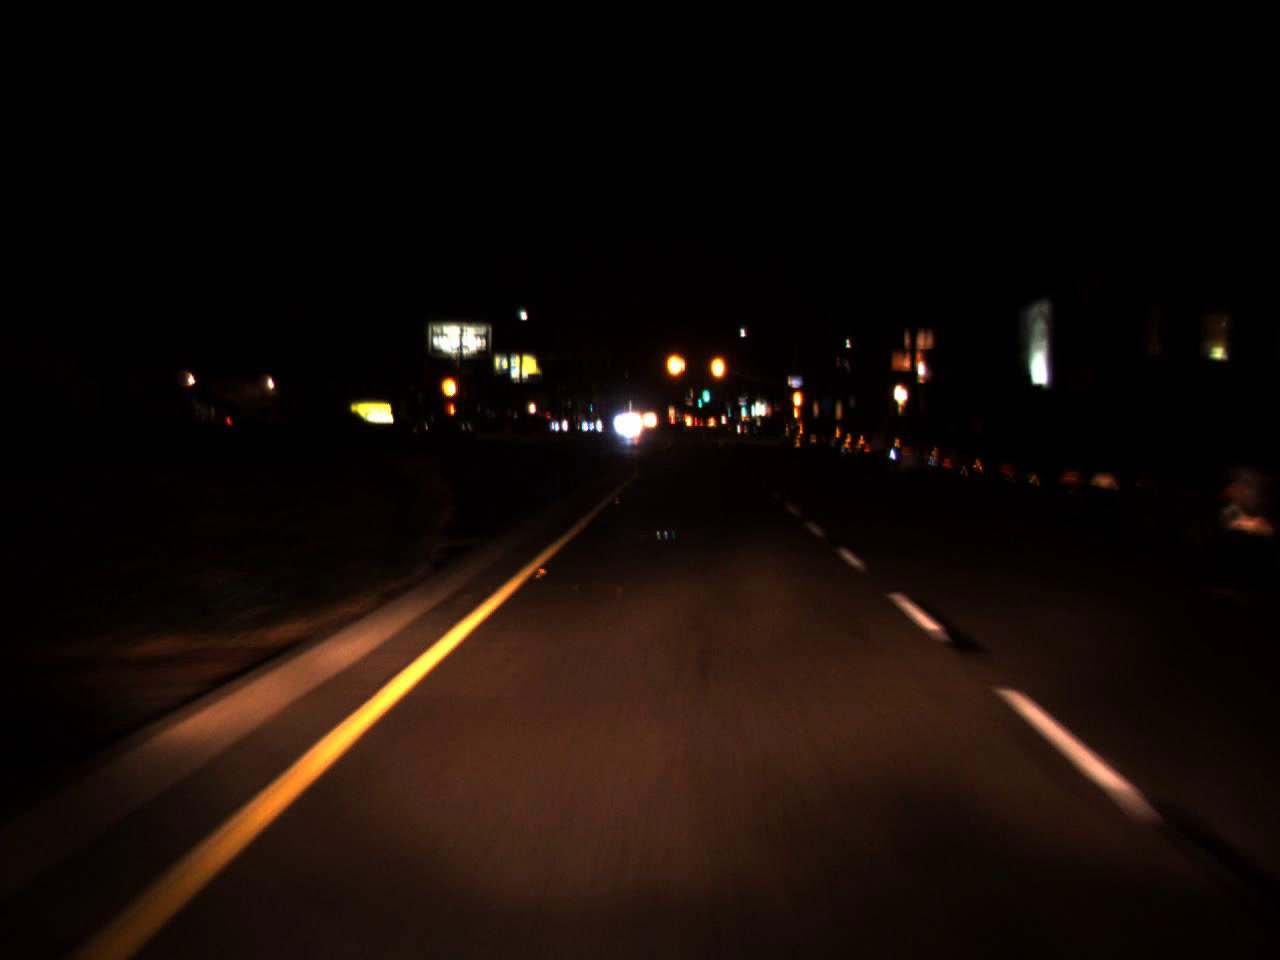go: (700, 379, 710, 403), (740, 393, 747, 419), (696, 388, 703, 412), (725, 400, 732, 418)
warning: (662, 338, 689, 390), (707, 342, 728, 392), (441, 367, 459, 407), (791, 383, 803, 413)
